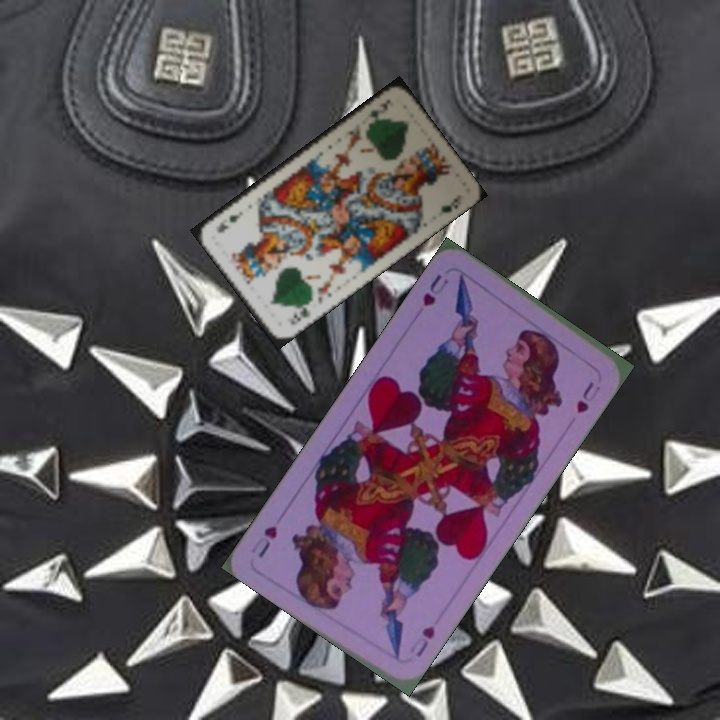GK: (364, 95, 395, 126), (283, 298, 312, 328)
HU: (404, 621, 438, 660), (418, 270, 451, 310)
